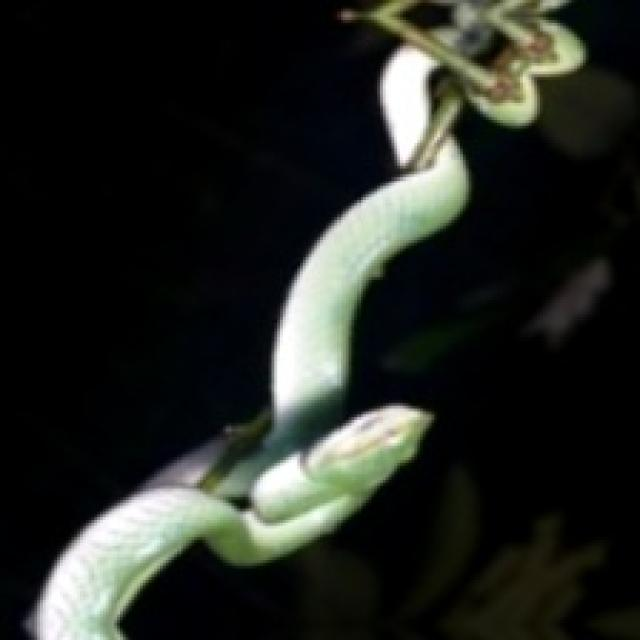north ph temple pitviper: (34, 137, 466, 637)
